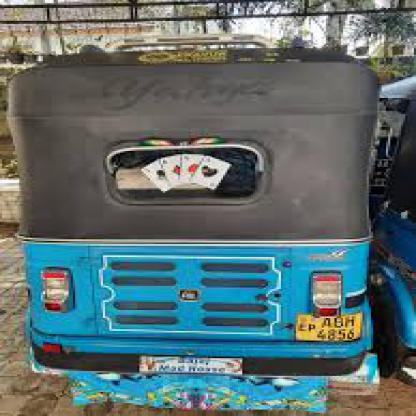tuk: (11, 42, 386, 410)
